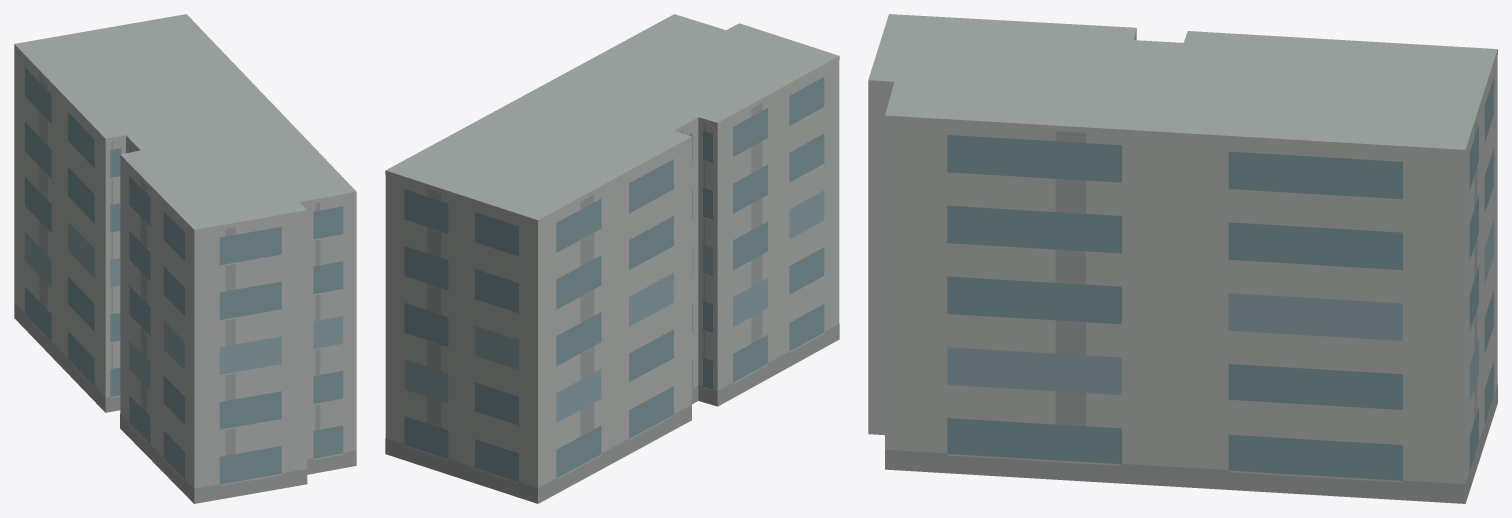
Rendered from survey-upis-32826608.glb.
The picture shows the model from 3 angles, left to right: view 1: azimuth 30°, elevation 25°; view 2: azimuth 150°, elevation 25°; view 3: azimuth 270°, elevation 25°; orthographic projection. The views are drawn at different scales.
Visible parts, largest first — view 1: survey-upis-32826608.tmp; view 2: survey-upis-32826608.tmp; view 3: survey-upis-32826608.tmp.
Part boxes in pixels (<box>): survey-upis-32826608.tmp: <box>14,14,356,503</box>; survey-upis-32826608.tmp: <box>385,14,839,503</box>; survey-upis-32826608.tmp: <box>868,14,1497,503</box>.
Size of the model in its own units: 12.49 by 15.17 by 24.46.
